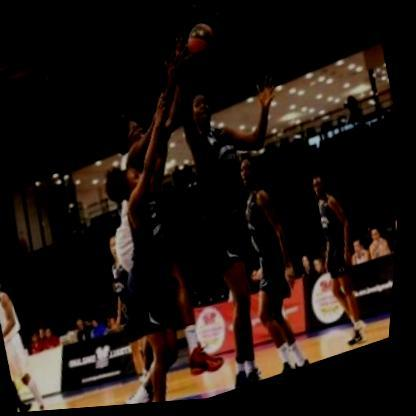basketball: (173, 15, 231, 79)
